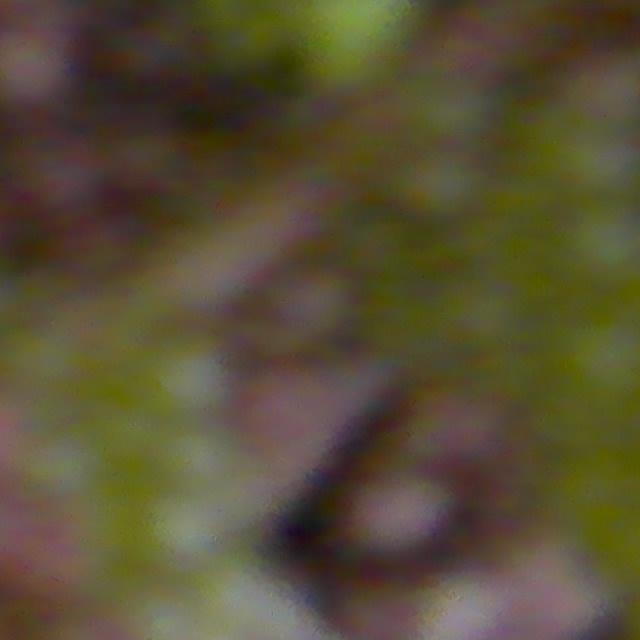SeaGrape: (294, 0, 417, 94), (141, 331, 238, 425), (562, 200, 640, 289), (404, 148, 486, 225), (280, 266, 358, 342), (0, 8, 59, 106)
